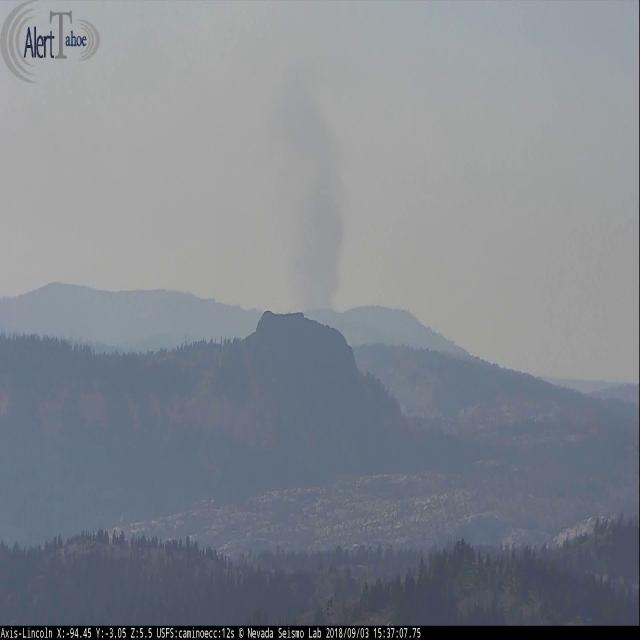smoke: (264, 71, 347, 331)
